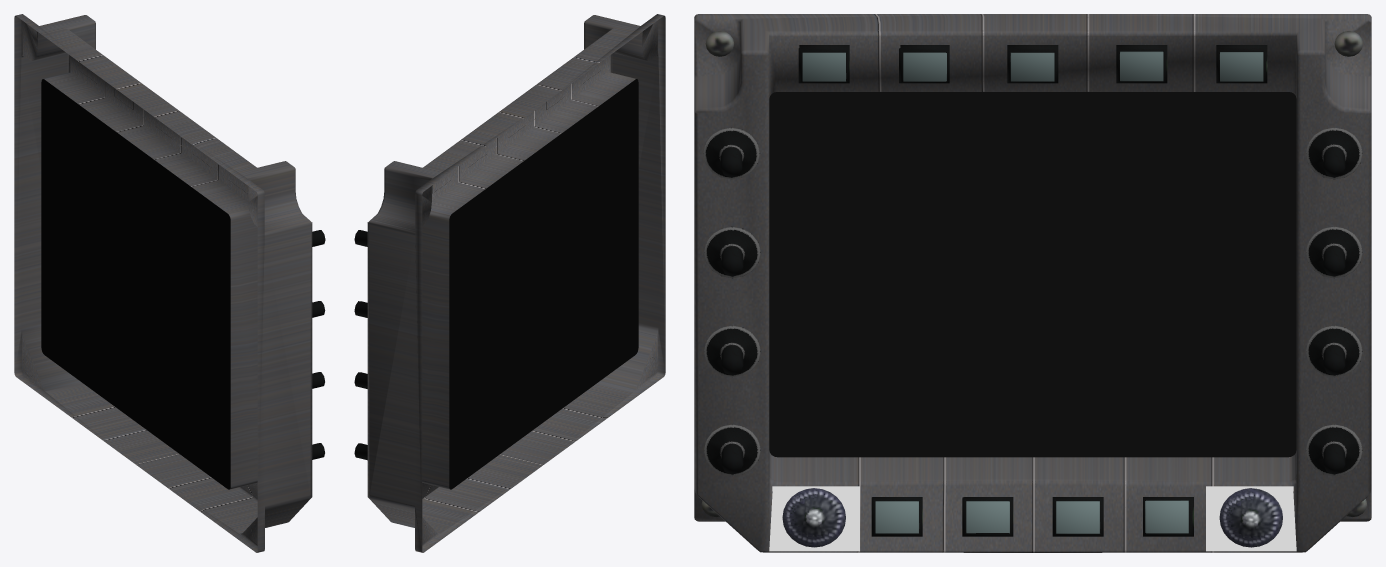
File: mfd_cadre.fbx
The picture shows the model from 3 angles, left to right: view 1: azimuth 30°, elevation 25°; view 2: azimuth 150°, elevation 25°; view 3: azimuth 270°, elevation 25°; orthographic projection. The views are drawn at different scales.
Parts seen in each view (by area): view 1: cadre, canvasCadre; view 2: cadre, canvasCadre; view 3: canvasCadre, cadre, bl-knob, br-knob, pot-r1, pot-l1, pot-l3, pot-r2, pot-l4, pot-r4, pot-l2, pot-r3 (+14 smaller).
Boxes of the visible parts, box(x1,y1,x2,y2) form: cadre: box(14, 14, 312, 552); canvasCadre: box(41, 79, 230, 489); cadre: box(367, 14, 665, 552); canvasCadre: box(449, 79, 638, 489); canvasCadre: box(769, 92, 1296, 457); cadre: box(694, 14, 1371, 552); bl-knob: box(782, 488, 845, 547); br-knob: box(1219, 488, 1282, 547); pot-r1: box(1306, 127, 1362, 179); pot-l1: box(703, 127, 759, 179); pot-l3: box(704, 325, 760, 377); pot-r2: box(1306, 226, 1362, 278); pot-l4: box(704, 424, 760, 475); pot-r4: box(1306, 424, 1362, 475); pot-l2: box(704, 226, 760, 278); pot-r3: box(1306, 325, 1362, 377).
Size of the model in its own units: 3.56 by 18.75 by 15.35.
